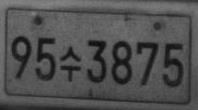3: (85, 40, 107, 83)
5: (34, 37, 57, 81), (161, 43, 184, 87)
7: (135, 40, 159, 86)
8: (109, 39, 133, 85)
9: (9, 34, 32, 79)
수: (58, 45, 82, 82)
